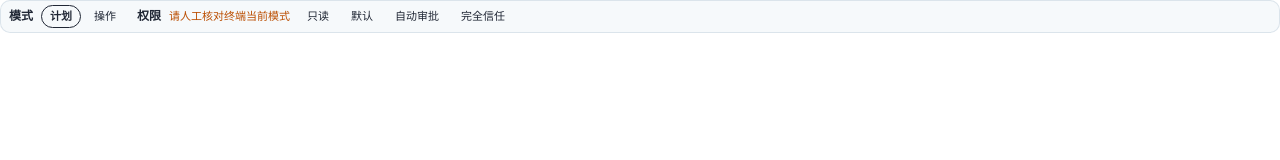
Scenario: ModeBar：模式显示与切档（批次丙 T6） › 409 no_mechanism：显示中文文案「该工具的模式切换未实测」
Click the button with test id "mode-switch-mode-default" at (105, 16), box [85,5,125,28]
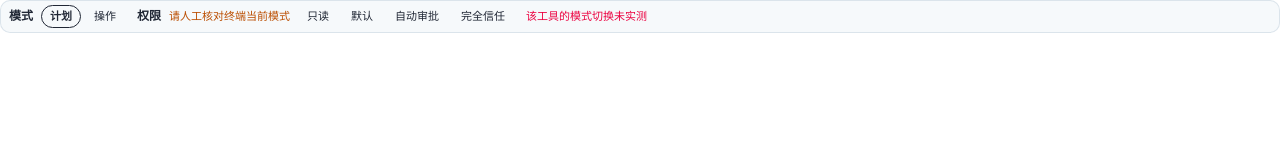
Result: the text with test id "mode-error" shows "未实测" at [526,8,647,24]
